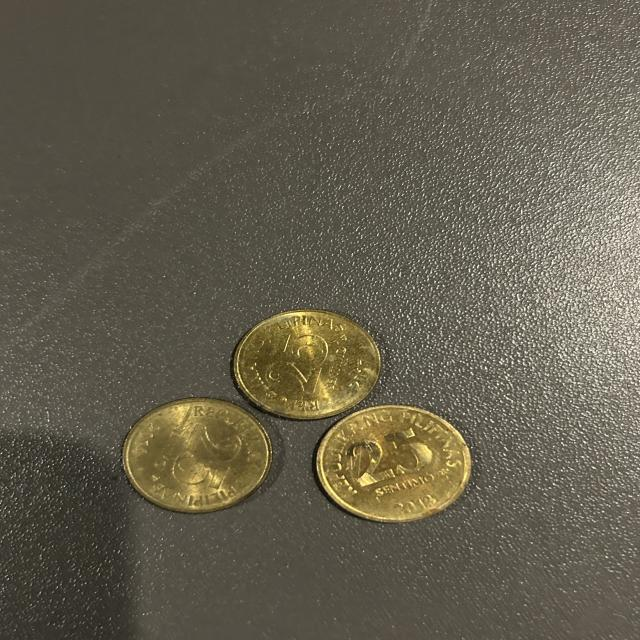25Cent_Old_Front: (341, 420, 435, 504), (153, 418, 250, 491)
